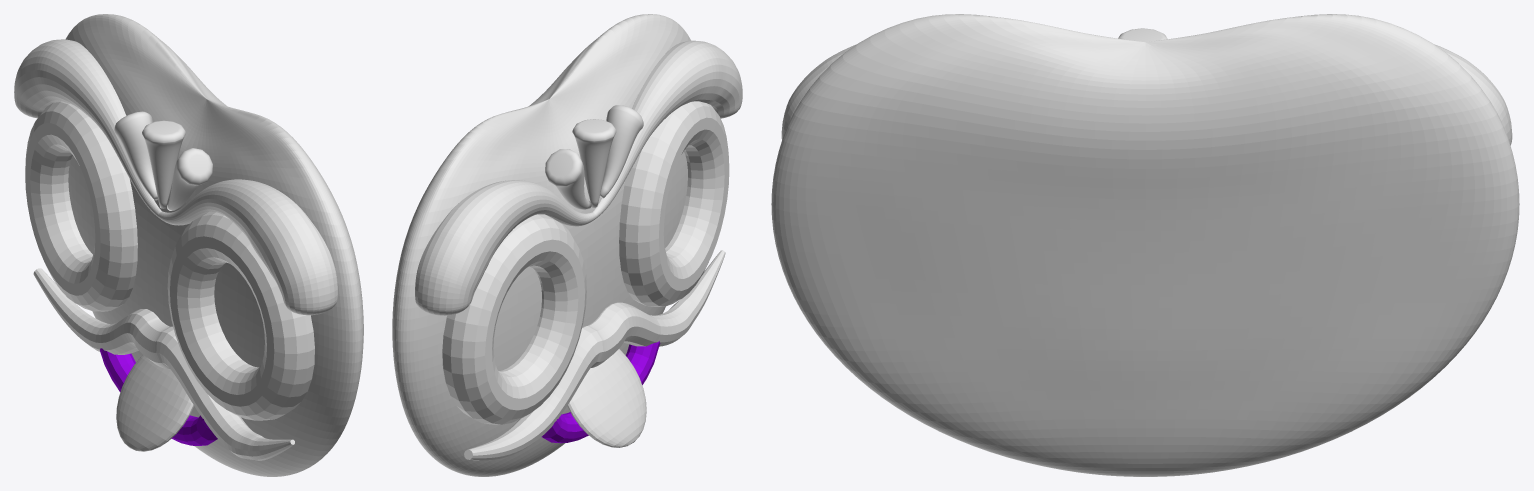
The model's file is MASK1.fbx.
3 views of the same model, side by side, from view 1: azimuth 30°, elevation 25°; view 2: azimuth 150°, elevation 25°; view 3: azimuth 270°, elevation 25° (orthographic). The views are drawn at different scales.
Parts seen in each view (by area): view 1: Sphere, Torus.002, Torus.001, BézierCurve.002, BézierCurve, BézierCurve.001, BézierCurve.004, Sphere.001, BézierCurve.003; view 2: Sphere, Torus.001, Torus.002, BézierCurve.001, BézierCurve, BézierCurve.002, BézierCurve.004, Sphere.001, BézierCurve.003; view 3: Sphere, BézierCurve.001, BézierCurve.002.
Part boxes in pixels (left/top/right/bottom): Sphere: left=65, top=14, right=363, bottom=476; Torus.002: left=167, top=211, right=314, bottom=420; Torus.001: left=25, top=101, right=137, bottom=311; BézierCurve.002: left=158, top=179, right=337, bottom=315; BézierCurve: left=33, top=268, right=294, bottom=460; BézierCurve.001: left=14, top=39, right=161, bottom=218; BézierCurve.004: left=114, top=111, right=212, bottom=210; Sphere.001: left=116, top=355, right=193, bottom=451; BézierCurve.003: left=100, top=348, right=217, bottom=445; Sphere: left=392, top=14, right=690, bottom=476; Torus.001: left=442, top=214, right=586, bottom=424; Torus.002: left=619, top=101, right=729, bottom=306; BézierCurve.001: left=415, top=180, right=596, bottom=315; BézierCurve: left=464, top=250, right=725, bottom=460; BézierCurve.002: left=593, top=40, right=742, bottom=218; BézierCurve.004: left=545, top=105, right=643, bottom=209; Sphere.001: left=567, top=349, right=646, bottom=447; BézierCurve.003: left=541, top=341, right=660, bottom=443; Sphere: left=771, top=14, right=1519, bottom=476; BézierCurve.001: left=1434, top=44, right=1512, bottom=145; BézierCurve.002: left=781, top=44, right=855, bottom=139.
Bounding box in the file's own units: 57.25 × 169 × 249.
